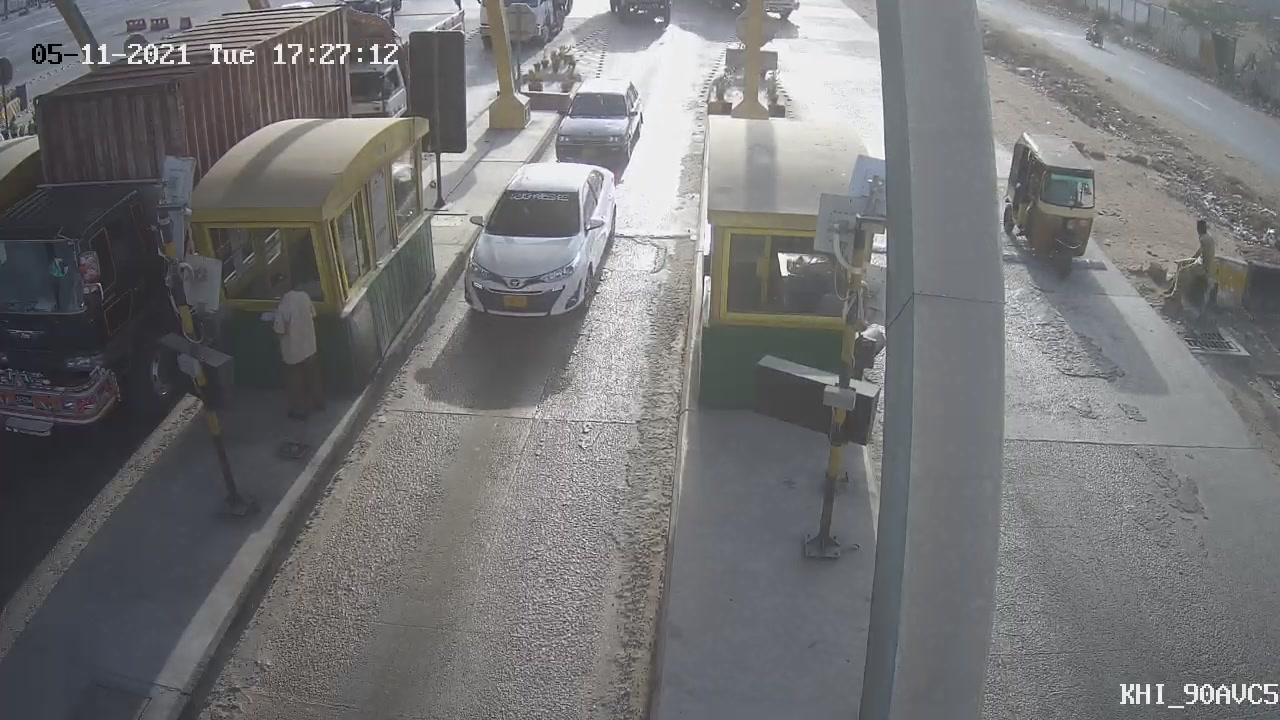F1: (442, 155, 637, 344), (535, 62, 657, 190)
